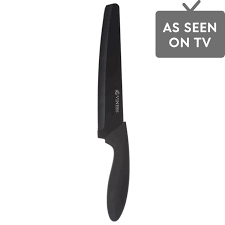knife: (89, 1, 132, 222)
